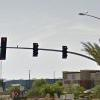Traffic light: (3, 32, 70, 67)
